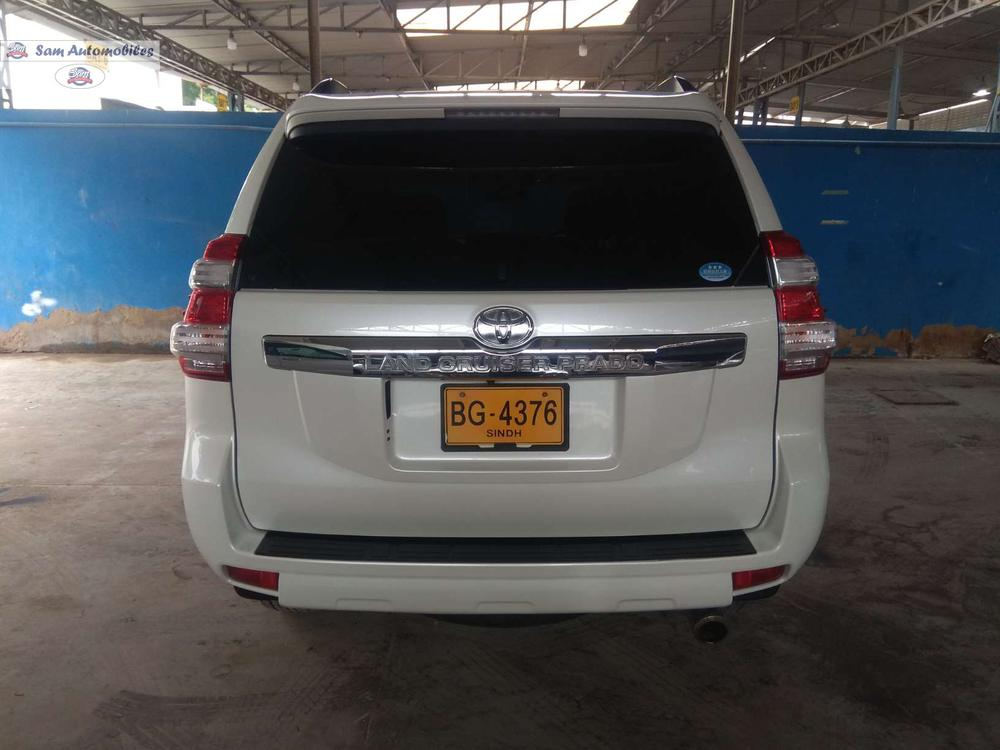license plate: (441, 385, 564, 447)
